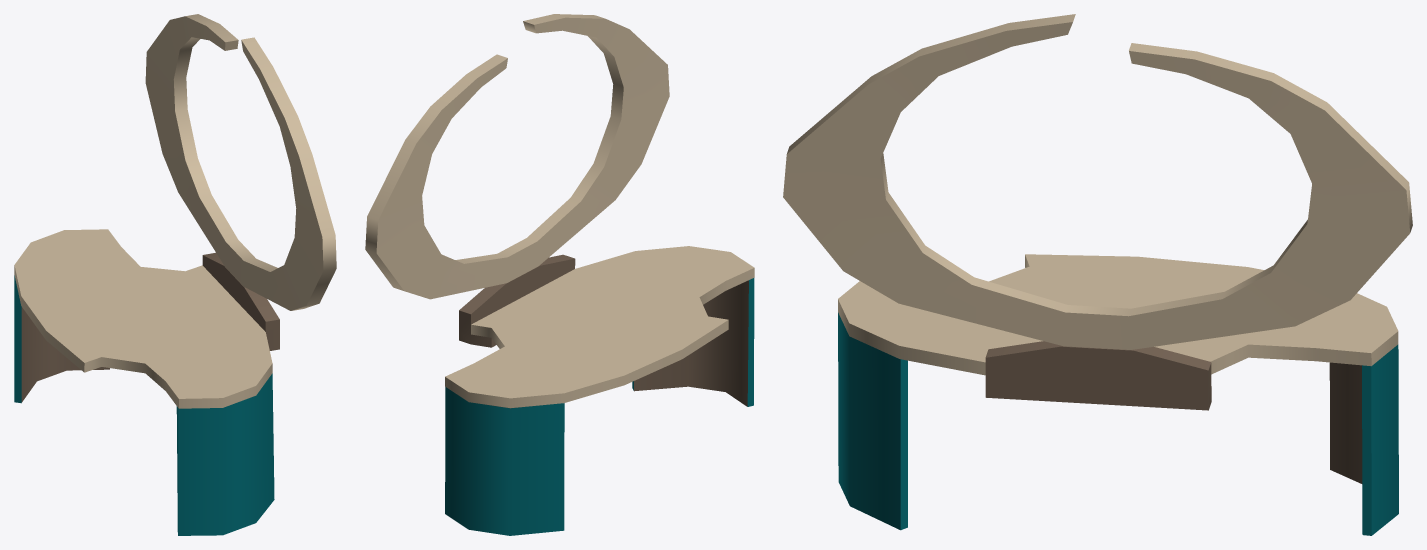
The model's file is Bench.fbx.
3 views of the same model, side by side, from view 1: azimuth 30°, elevation 25°; view 2: azimuth 150°, elevation 25°; view 3: azimuth 270°, elevation 25° (orthographic). The views are drawn at different scales.
Parts seen in each view (by area): view 1: Bench; view 2: Bench; view 3: Bench.
Boxes of the visible parts, left/top/right/bottom form: Bench: left=14, top=14, right=336, bottom=535; Bench: left=365, top=14, right=754, bottom=535; Bench: left=783, top=14, right=1412, bottom=535.
Size of the model in its own units: 54.09 by 101 by 95.32.
